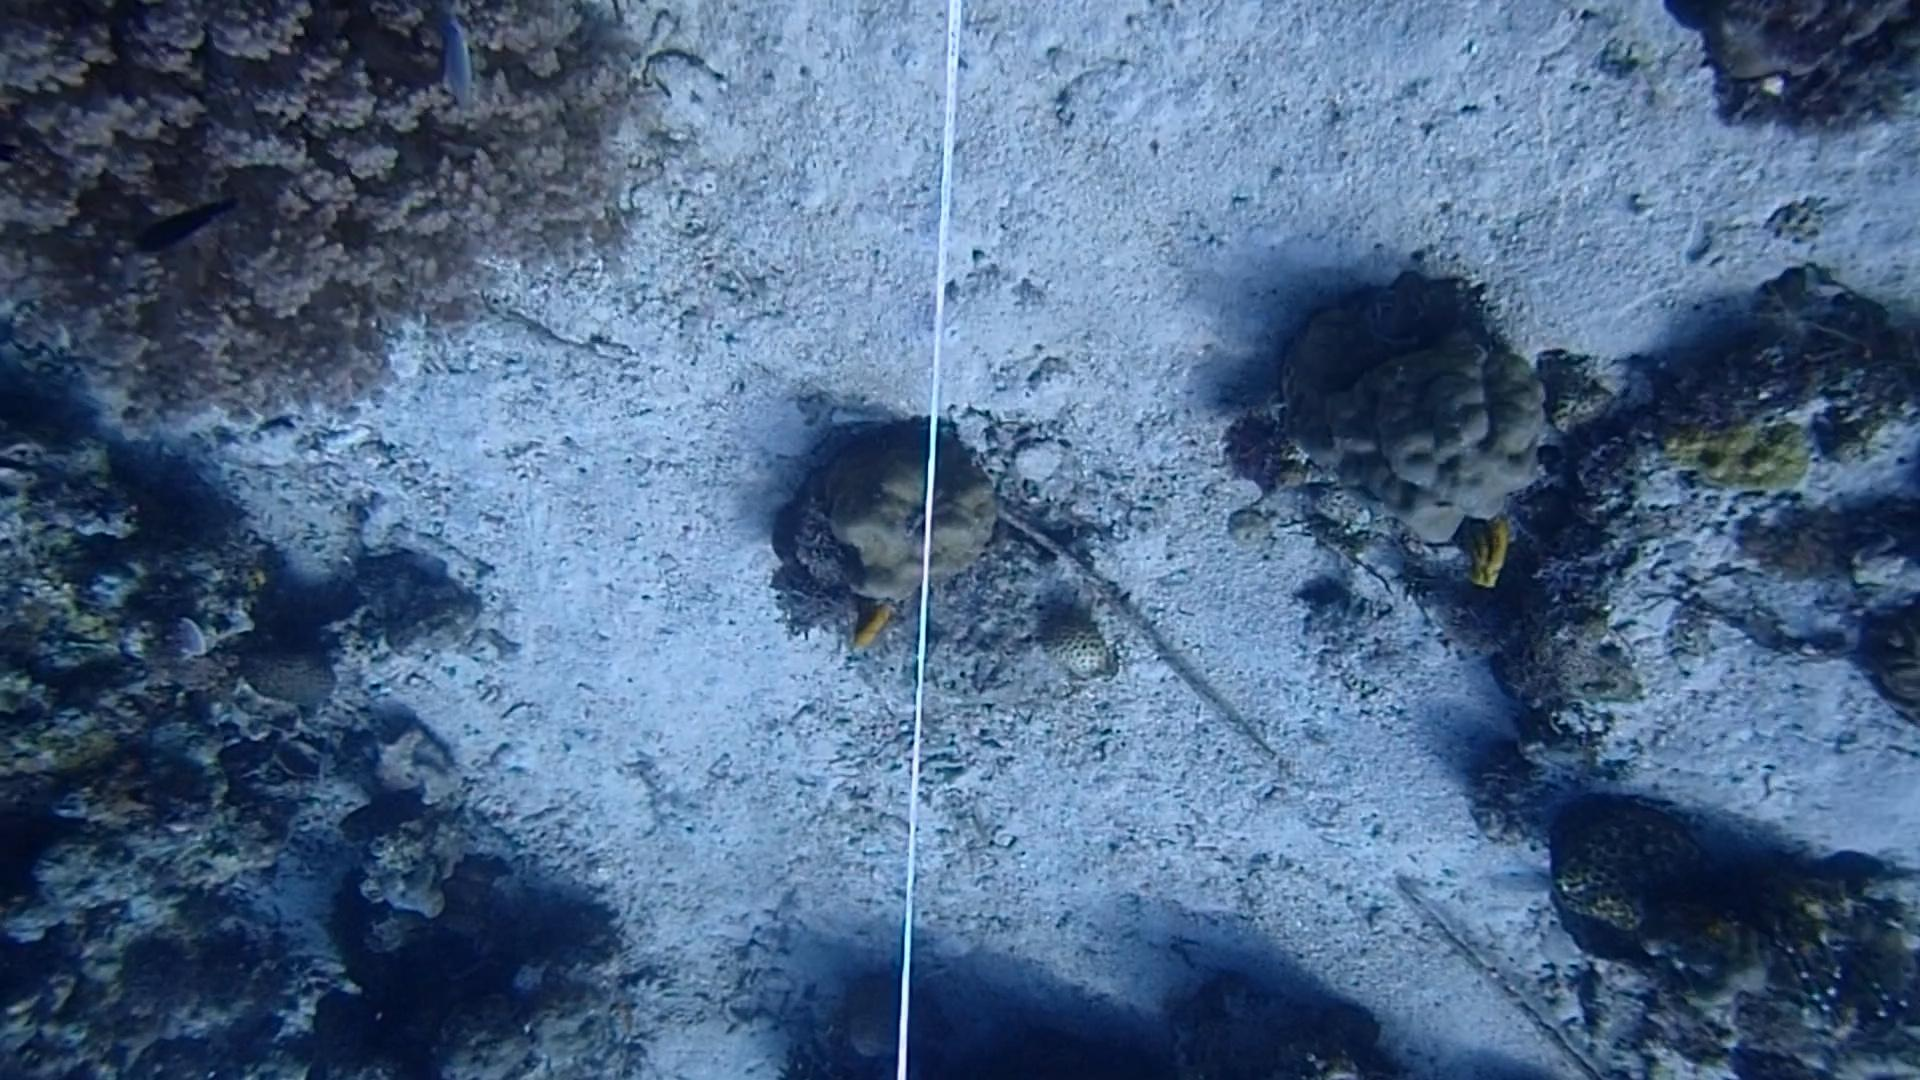Dark Fish: (124, 182, 256, 277)
Light Fish: (415, 12, 508, 113)
